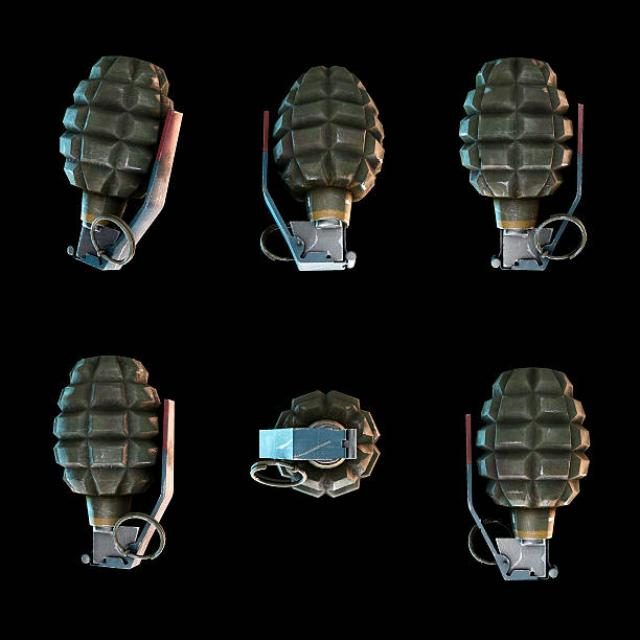grenade: (250, 54, 396, 284), (458, 365, 602, 596), (49, 56, 191, 285), (44, 351, 184, 575), (458, 50, 594, 279), (248, 383, 391, 510)
